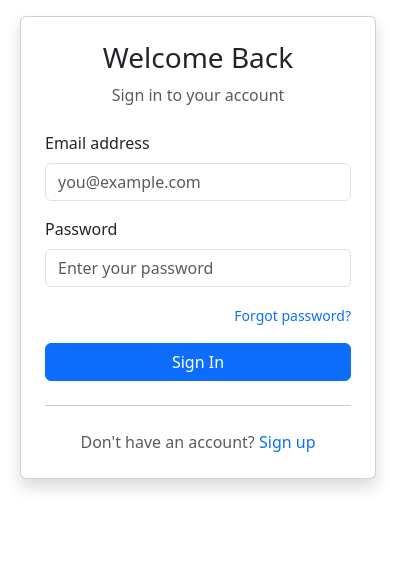
Scenario: LoginPage › should show error alert on login failure
This screenshot has width=397, height=582.
Type "test@example.com" into the field labelled "Email address" at (198, 182), box 45,163 -> 351,201
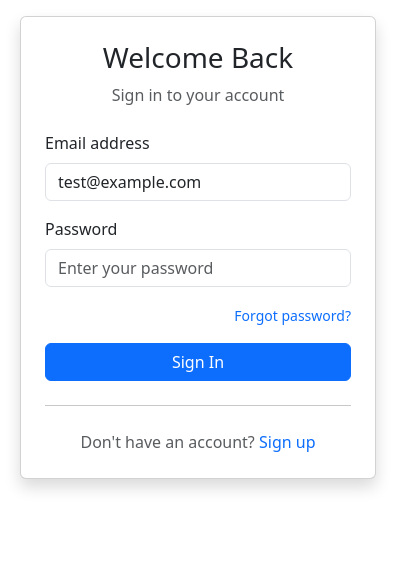
Type "wrongpassword" into the password field labelled "Password" at (198, 268), box 45,249 -> 351,287
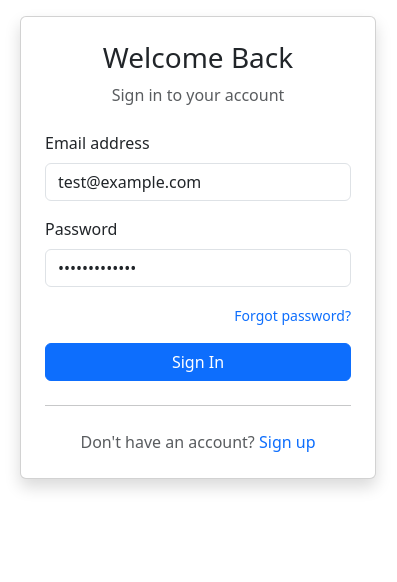
Click the button "Sign In" at (198, 362), box 45,343 -> 351,381
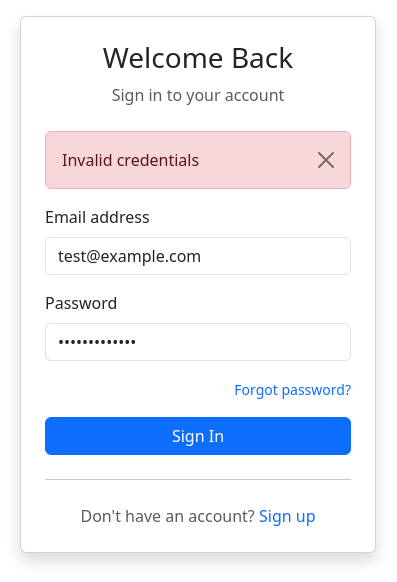
Now the text "Invalid credentials" is shown, box 45,131 -> 351,189
